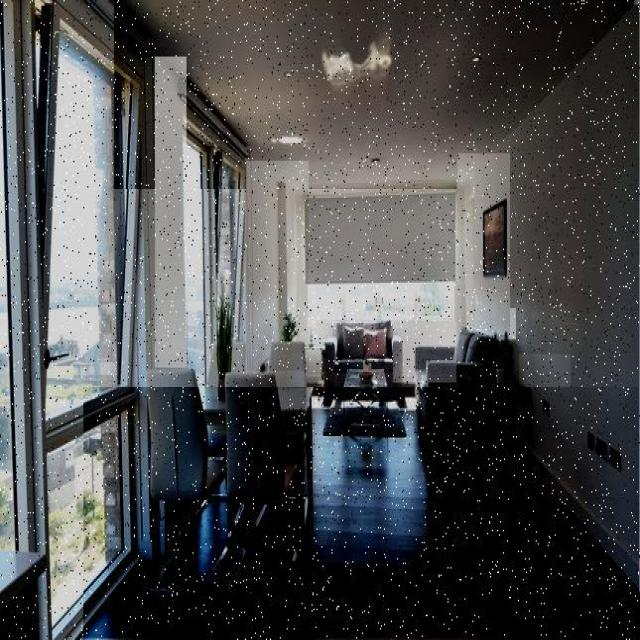Wall: (84, 388, 640, 639), (115, 1, 634, 189), (486, 4, 640, 479), (530, 420, 640, 589), (246, 161, 309, 370), (156, 58, 187, 368), (458, 154, 510, 335), (520, 354, 571, 509), (241, 505, 295, 589), (169, 502, 224, 583), (394, 322, 456, 383), (611, 555, 640, 589), (316, 325, 332, 345), (509, 309, 516, 339), (391, 430, 402, 435)
